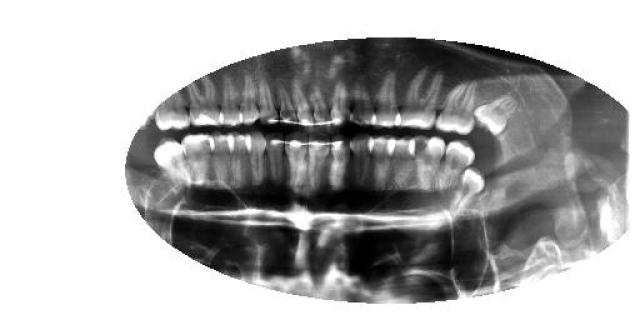Restorations: (449, 166, 486, 222), (471, 95, 519, 137)
